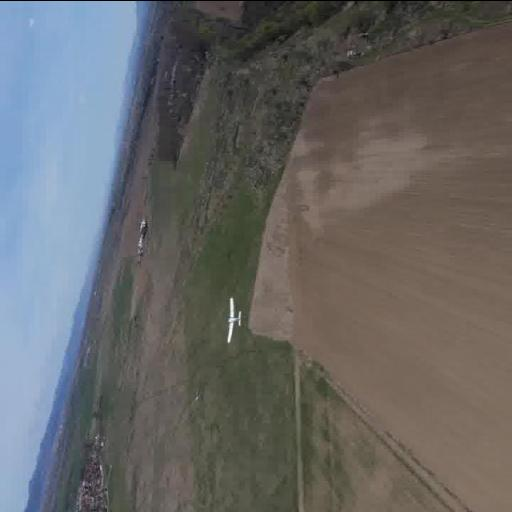uav: (227, 299, 247, 345)
